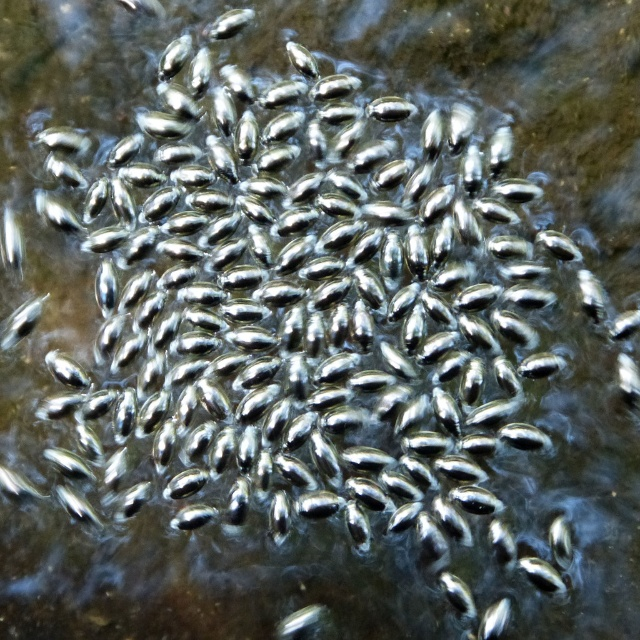Fish: (0, 290, 47, 351)
